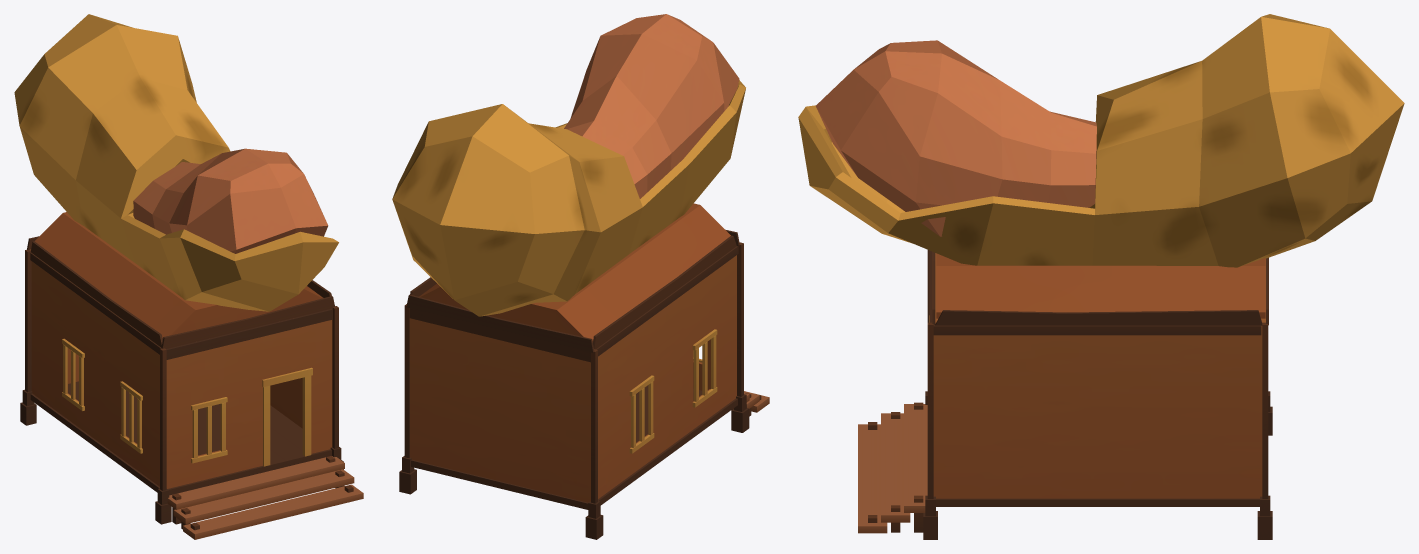
Rendered from Udo_House.fbx.
The picture shows the model from 3 angles, left to right: view 1: azimuth 30°, elevation 25°; view 2: azimuth 150°, elevation 25°; view 3: azimuth 270°, elevation 25°; orthographic projection. The views are drawn at different scales.
Parts seen in each view (by area): view 1: Udo_House; view 2: Udo_House; view 3: Udo_House.
Part boxes in pixels (x1,y1,x2,y2): Udo_House: (14,14,363,539); Udo_House: (392,14,769,539); Udo_House: (798,14,1404,539).
Bounding box in the file's own units: 914 × 1807 × 2120.
Materials: 1 (1 with a texture image).
